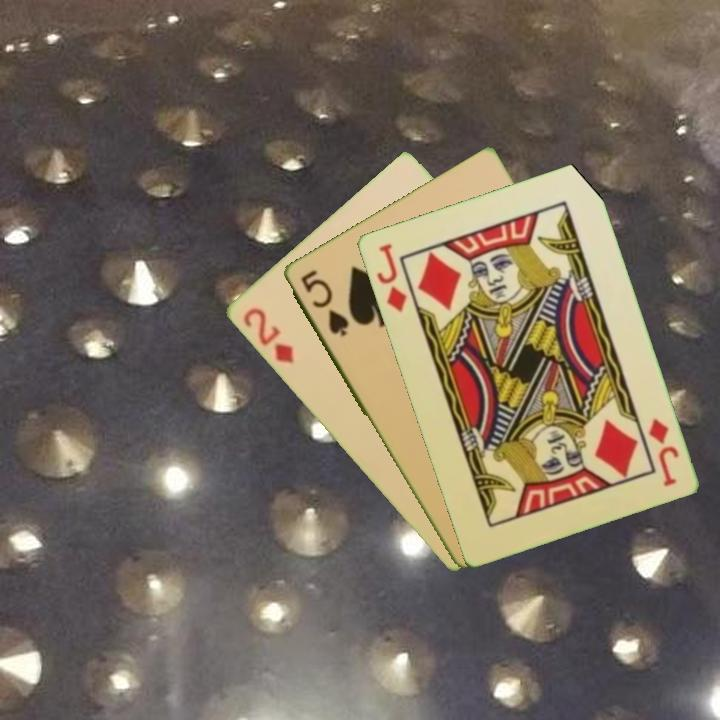2d: (239, 303, 296, 366)
5s: (296, 266, 352, 340)
Jd: (372, 239, 410, 315), (644, 414, 681, 489)
